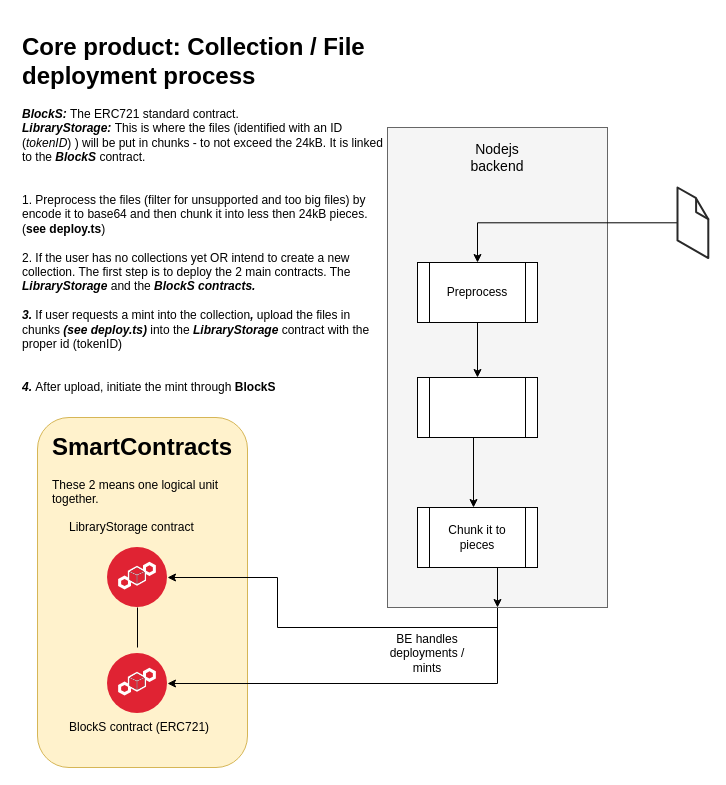
This 726x785 diagram has some shape labels left out. The box of each missing label's shape, as (x1, y1, x2, y2) in pixels:
Base64 encode: (416, 376, 538, 438)
File: (676, 186, 708, 258)
